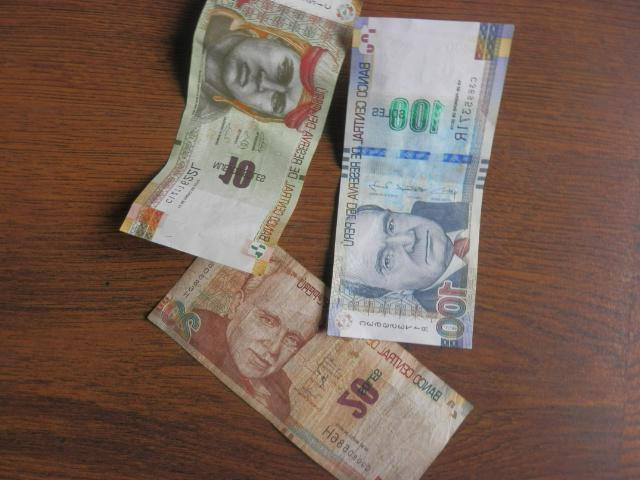B10: (124, 2, 353, 232)
B100: (351, 16, 513, 346)
B20: (148, 304, 474, 480)
